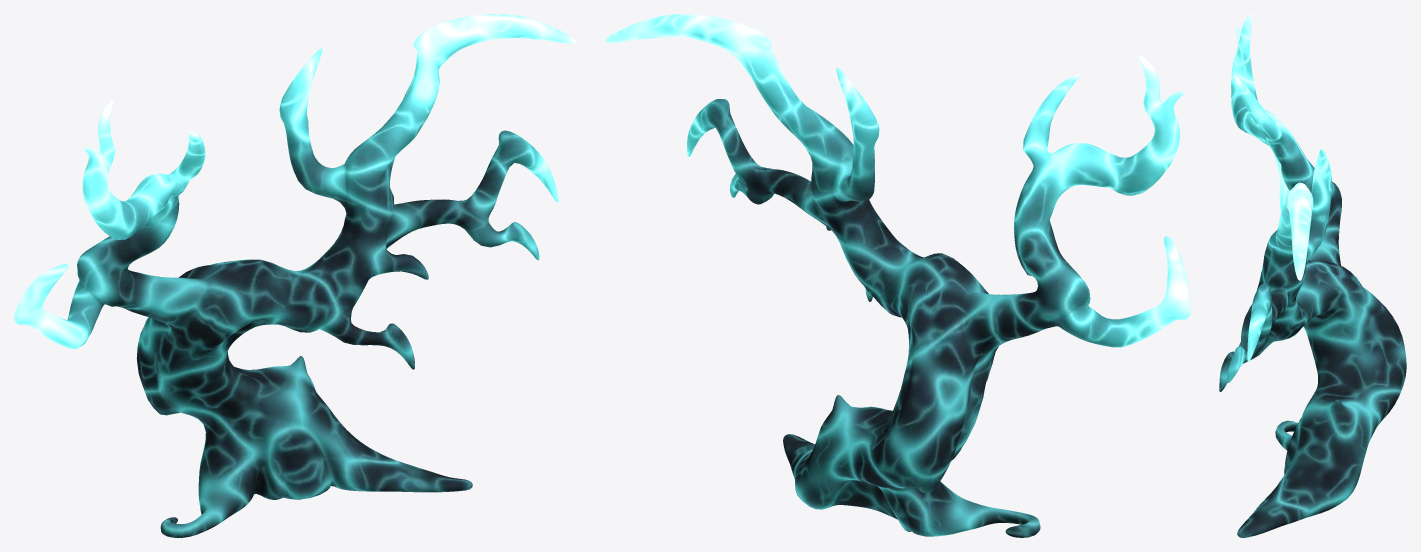
The model's file is caos_sts_clawplant_01a_soma_v36.glb.
The picture shows the model from 3 angles, left to right: view 1: azimuth 30°, elevation 25°; view 2: azimuth 150°, elevation 25°; view 3: azimuth 270°, elevation 25°; orthographic projection. The views are drawn at different scales.
Visible parts, largest first — view 1: caos_sts_clawplant_01a; view 2: caos_sts_clawplant_01a; view 3: caos_sts_clawplant_01a.
Part boxes in pixels (box(x1,y1,x2,y2)): caos_sts_clawplant_01a: box(14, 14, 576, 537); caos_sts_clawplant_01a: box(605, 14, 1190, 537); caos_sts_clawplant_01a: box(1219, 14, 1406, 537).
Bounding box in the file's own units: 7.58 × 6.03 × 2.66.
1 material, 1 textured.
